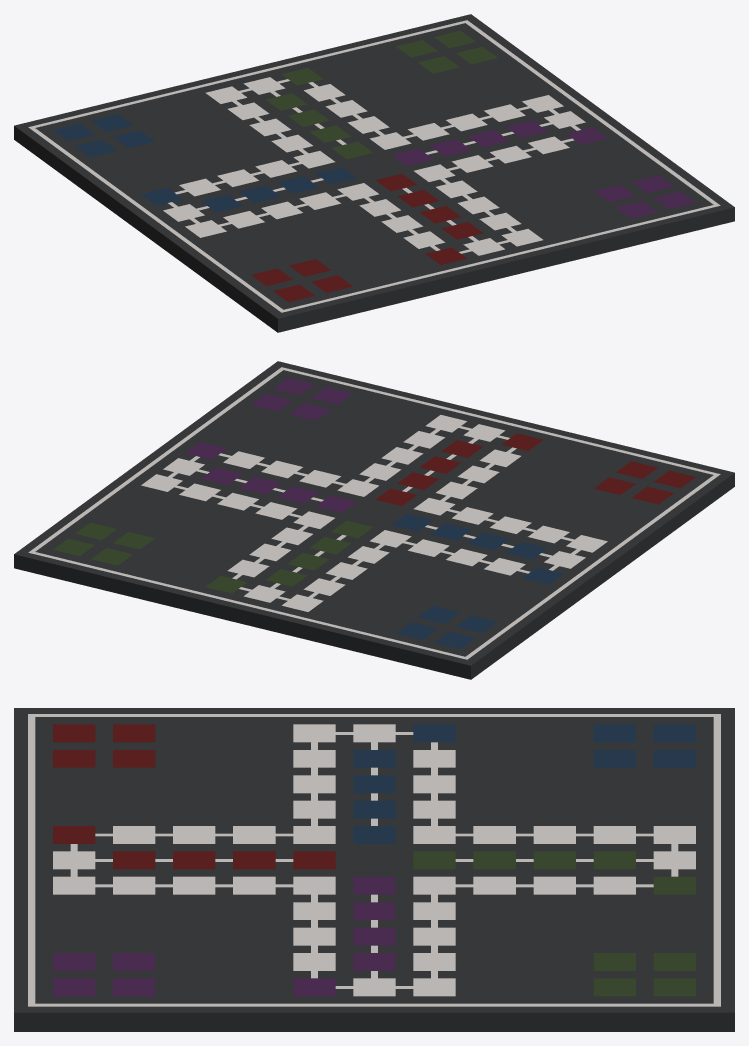
File: ludo-board-black-white.gltf
The picture shows the model from 3 angles, top to bottom: view 1: azimuth 30°, elevation 25°; view 2: azimuth 150°, elevation 25°; view 3: azimuth 270°, elevation 25°; orthographic projection. The views are drawn at different scales.
Parts seen in each view (by area): view 1: ludo-board-black-white; view 2: ludo-board-black-white; view 3: ludo-board-black-white.
Boxes of the visible parts, x1=… form: ludo-board-black-white: x1=14, y1=14, x2=734, y2=332; ludo-board-black-white: x1=14, y1=361, x2=734, y2=679; ludo-board-black-white: x1=14, y1=708, x2=734, y2=1031.
Bounding box in the file's own units: 20.4 × 0.6 × 20.4.
Materials: 1 (1 with a texture image).
